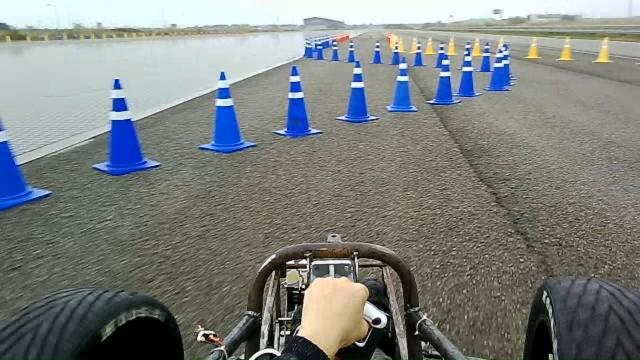blue cone: (92, 77, 161, 176), (198, 71, 258, 153), (0, 120, 52, 211), (272, 64, 324, 138), (335, 60, 379, 123), (426, 53, 462, 105), (386, 56, 418, 112), (482, 48, 512, 93), (455, 49, 482, 97)
yellow cone: (592, 36, 614, 63), (523, 37, 542, 59), (556, 38, 575, 60)
